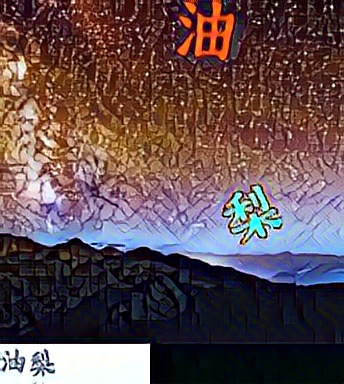C0E6: (222, 180, 285, 247)
D3CD: (176, 1, 239, 68)
